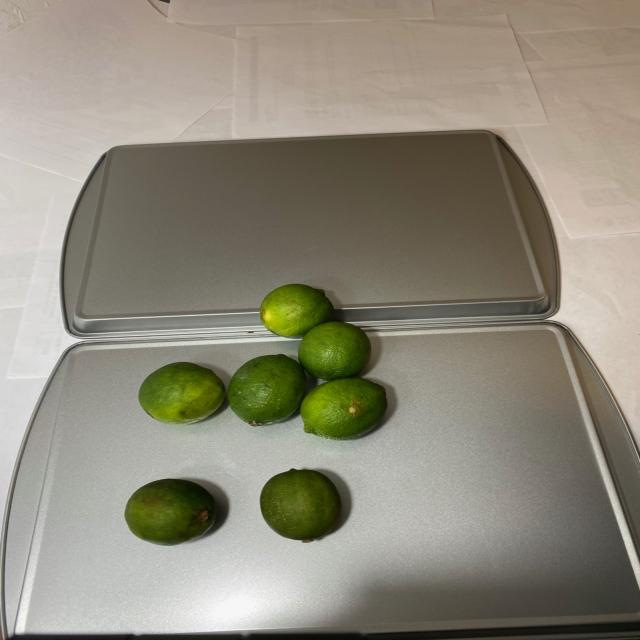lemon: (112, 282, 388, 548)
